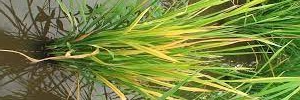RiceTungro: (127, 42, 184, 58), (96, 71, 128, 99), (141, 29, 207, 37), (196, 40, 254, 47)
